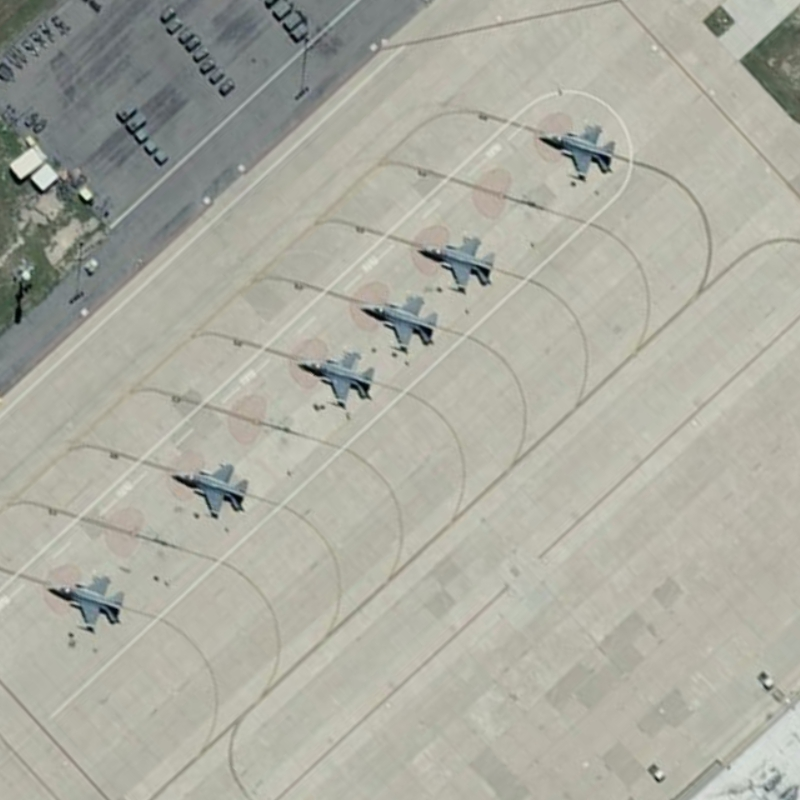A5: (540, 114, 626, 185), (37, 570, 128, 637), (163, 459, 258, 521), (354, 292, 443, 357), (414, 233, 505, 296), (293, 349, 376, 409)
